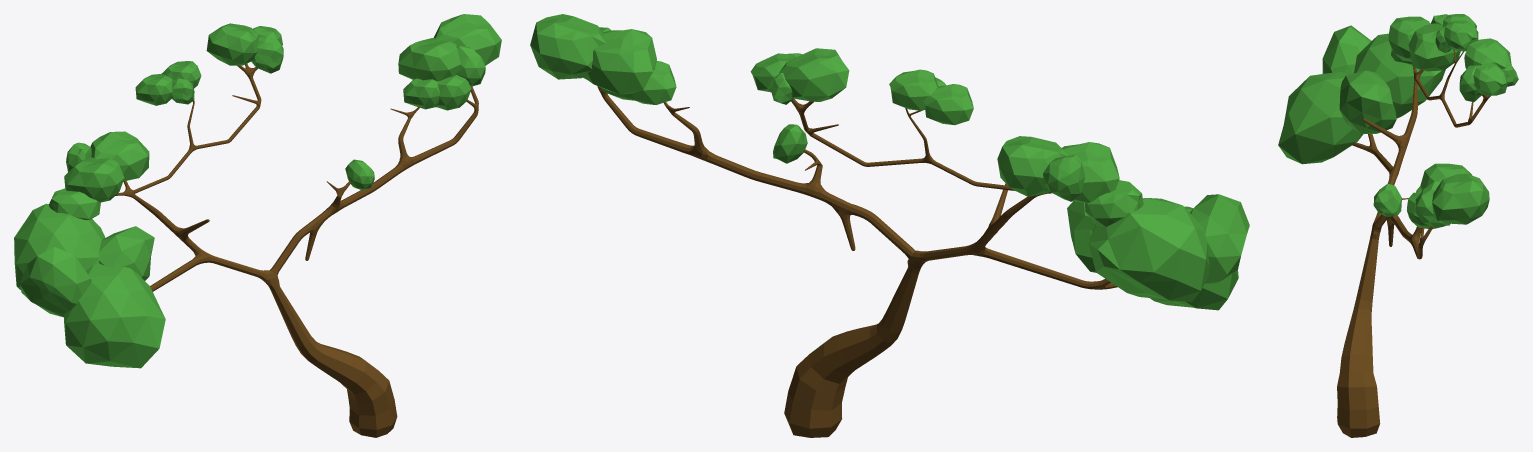
File: tree 2.obj
3 views of the same model, side by side, from view 1: azimuth 30°, elevation 25°; view 2: azimuth 150°, elevation 25°; view 3: azimuth 270°, elevation 25° (orthographic). The views are drawn at different scales.
Visible parts, largest first — view 1: Cube; view 2: Cube; view 3: Cube.
Part boxes in pixels (bbox=[...]): Cube: bbox=[14, 14, 501, 437]; Cube: bbox=[530, 14, 1249, 437]; Cube: bbox=[1278, 14, 1518, 437].
Bounding box in the file's own units: 21.66 × 14.68 × 9.07.
